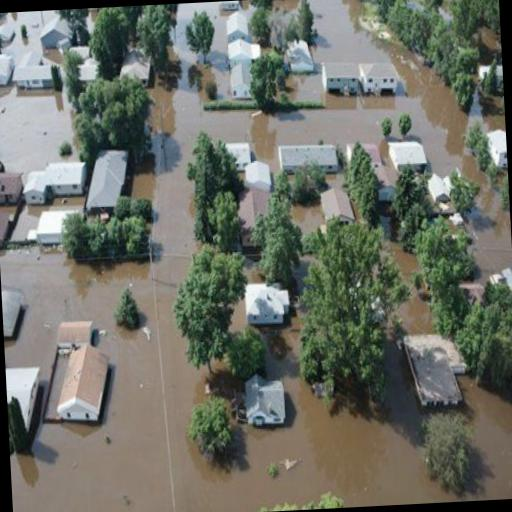flood: (0, 50, 512, 512), (309, 0, 414, 71), (0, 85, 79, 174), (173, 2, 228, 63), (2, 10, 57, 61)
house: (49, 344, 116, 428), (402, 334, 466, 408), (83, 146, 134, 212), (234, 176, 274, 260), (24, 158, 86, 207), (241, 275, 293, 331), (240, 372, 292, 428), (6, 360, 42, 431), (277, 140, 339, 174), (14, 58, 62, 96), (1, 283, 27, 346), (316, 186, 354, 228), (387, 136, 427, 174), (321, 61, 362, 95), (53, 316, 95, 348), (358, 62, 396, 96), (38, 16, 70, 50), (228, 62, 253, 99), (0, 166, 22, 208), (486, 128, 508, 169), (224, 12, 250, 42), (0, 204, 17, 248), (0, 47, 16, 86), (218, 0, 242, 14)
